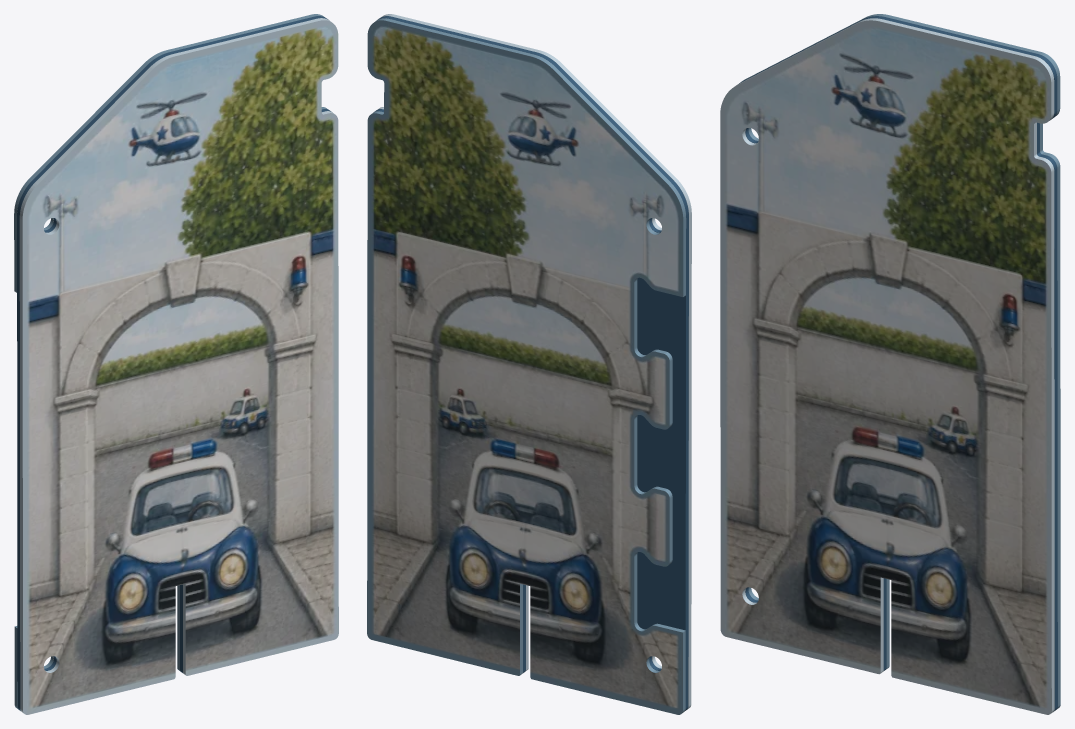
File: right-panel.glb
3 renders of one model, left to right at view 1: azimuth 30°, elevation 25°; view 2: azimuth 150°, elevation 25°; view 3: azimuth 330°, elevation 25°, orthographic. The views are drawn at different scales.
Parts seen in each view (by area): view 1: right-panel; view 2: right-panel; view 3: right-panel.
Boxes of the visible parts, x1,y1,x2,y2 form: right-panel: (14, 14, 338, 714); right-panel: (367, 14, 691, 714); right-panel: (720, 14, 1060, 714).
Size of the model in its own units: 581 by 1093 by 27.
5 materials, 2 textured.
